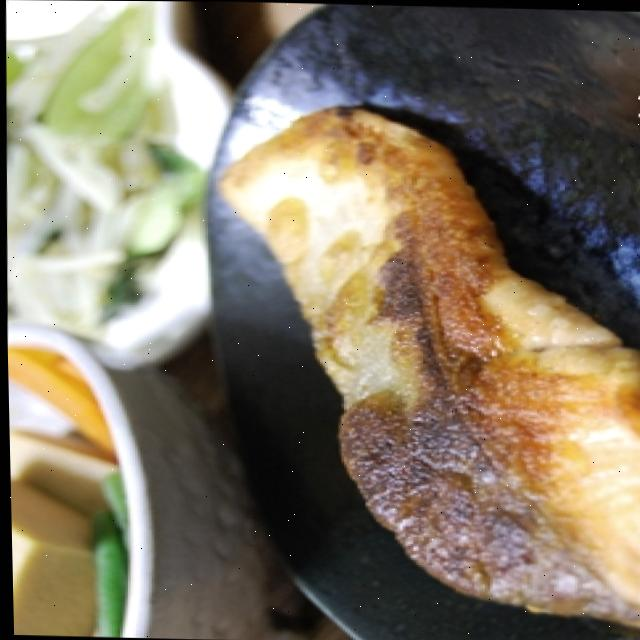熟制海鲜: (234, 122, 640, 640)
